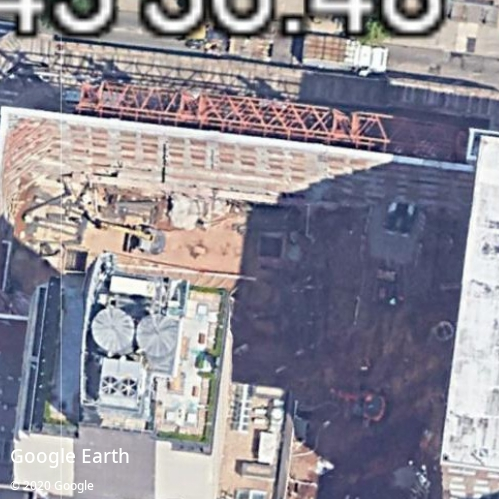Vent: (120, 378, 138, 397), (101, 376, 118, 394)
